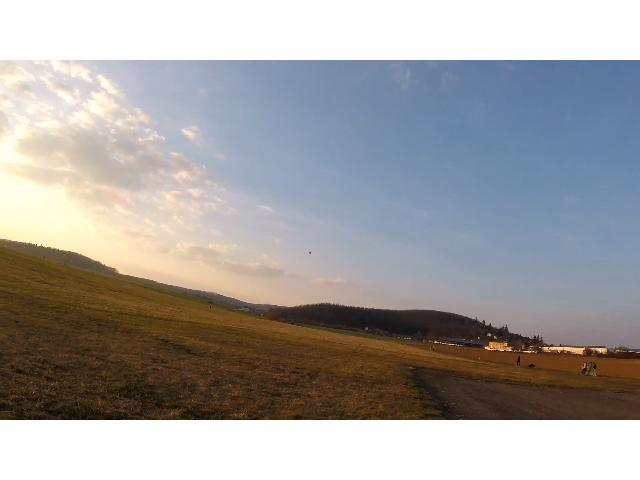Anti-Drone: (303, 248, 317, 260)
